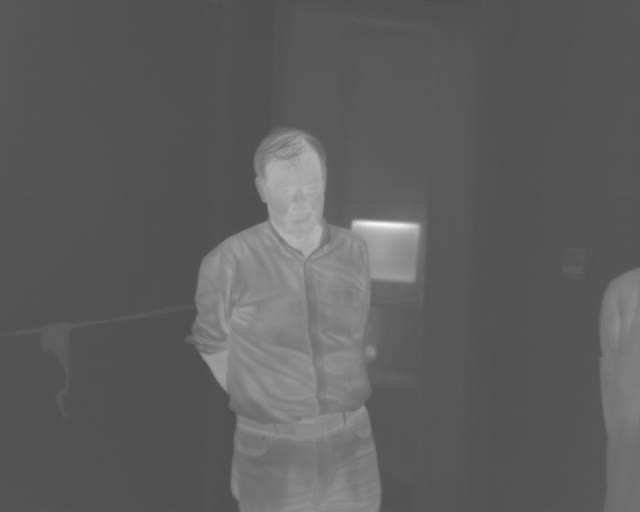face: (253, 127, 330, 239)
